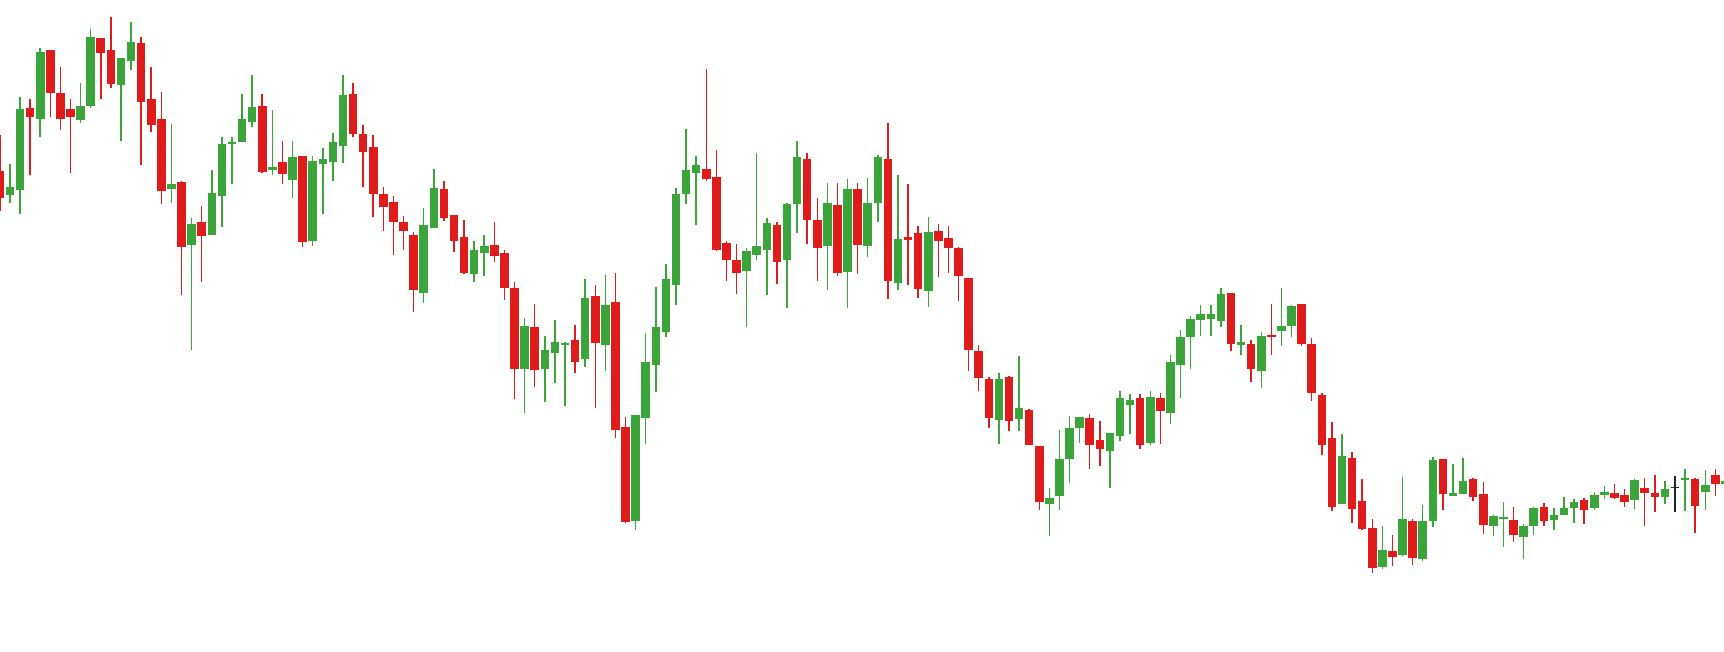sell: (788, 120, 895, 254), (266, 77, 357, 180)
